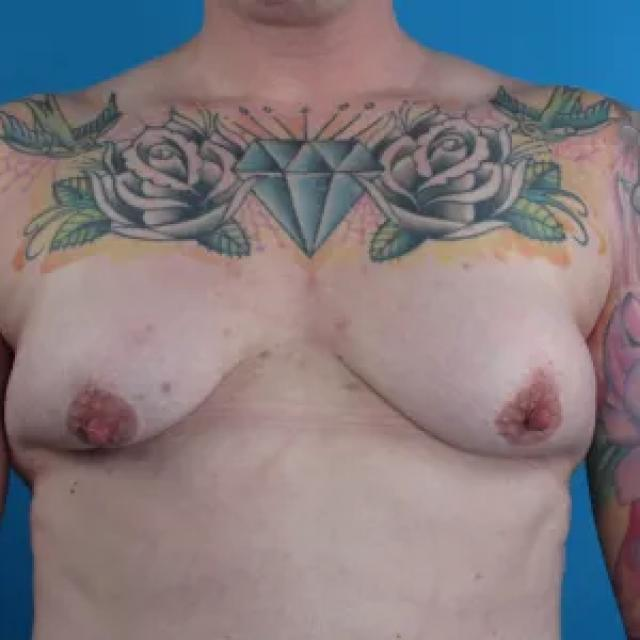Seno ileso: (306, 257, 606, 477), (3, 255, 278, 475)
